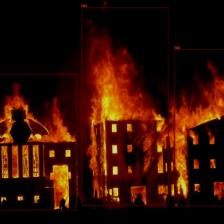fire: (82, 7, 168, 205), (0, 73, 76, 210), (174, 49, 224, 206)
